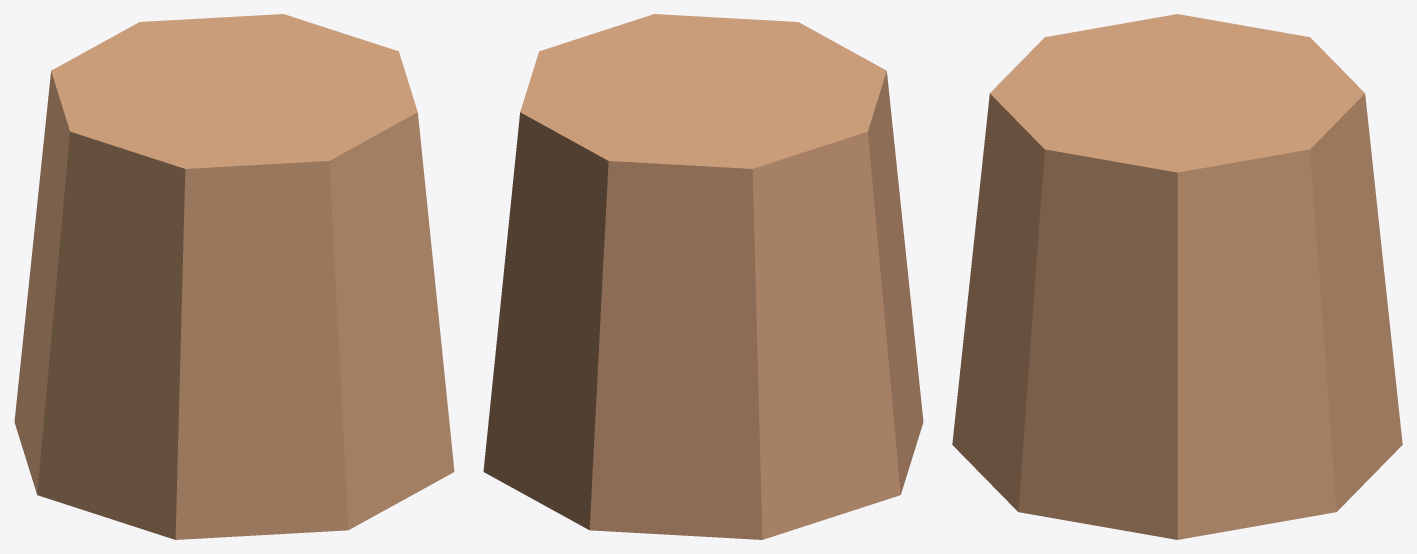
3 renders of one model, left to right at view 1: azimuth 30°, elevation 25°; view 2: azimuth 150°, elevation 25°; view 3: azimuth 270°, elevation 25°, orthographic.
Visible parts, largest first — view 1: cannon; view 2: cannon; view 3: cannon.
Part boxes in pixels (x1,y1,x2,y2): cannon: (14, 14, 454, 539); cannon: (483, 14, 923, 539); cannon: (952, 14, 1402, 539).
Size of the model in its own units: 0.72 by 0.62 by 0.72.
